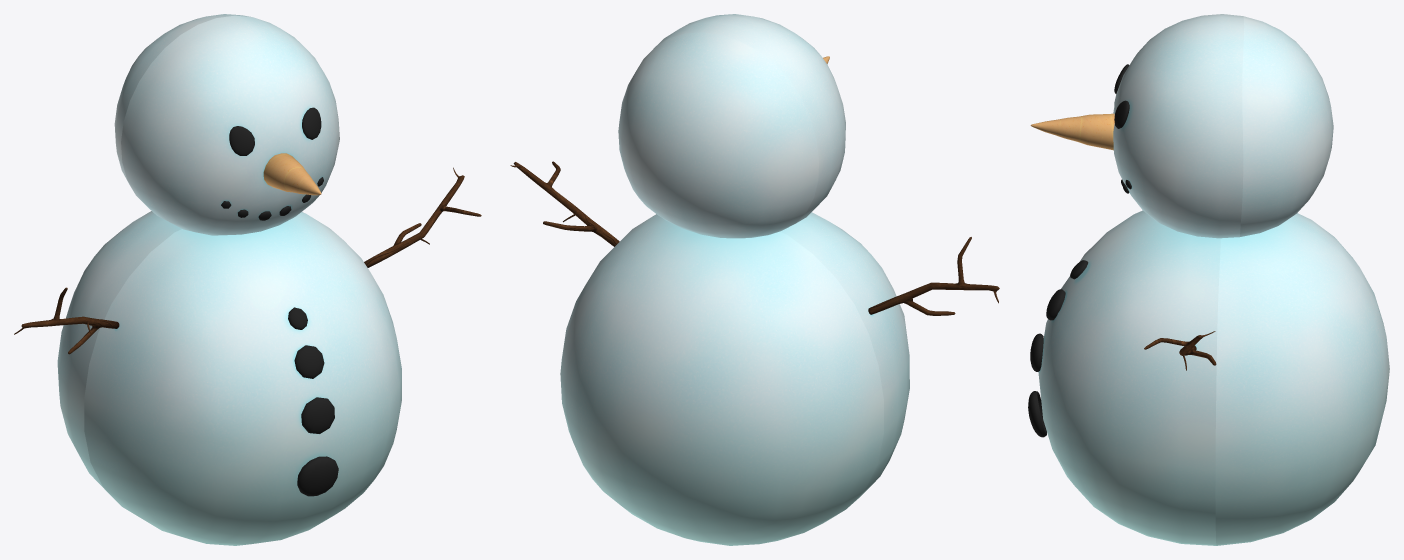
The model's file is enemy_model.fbx.
The picture shows the model from 3 angles, left to right: view 1: azimuth 30°, elevation 25°; view 2: azimuth 150°, elevation 25°; view 3: azimuth 270°, elevation 25°; orthographic projection.
Visible parts, largest first — view 1: enemy; view 2: enemy; view 3: enemy.
Boxes of the visible parts, x1,y1,x2,y2 form: enemy: (14,14,481,545); enemy: (510,14,999,545); enemy: (1028,14,1389,545).
Size of the model in its own units: 36.4 by 37.42 by 24.32.
Materials: 1 (1 with a texture image).
